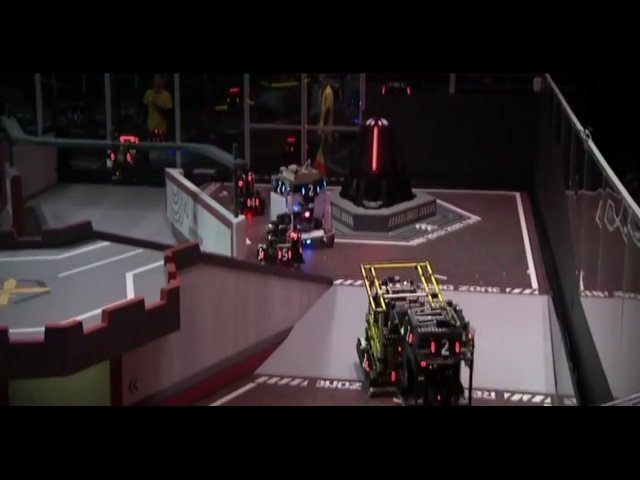bluePlate: (308, 141, 342, 164), (427, 322, 454, 347), (221, 193, 242, 214), (189, 195, 206, 214)
redPlate: (199, 314, 244, 344), (270, 147, 284, 165)
